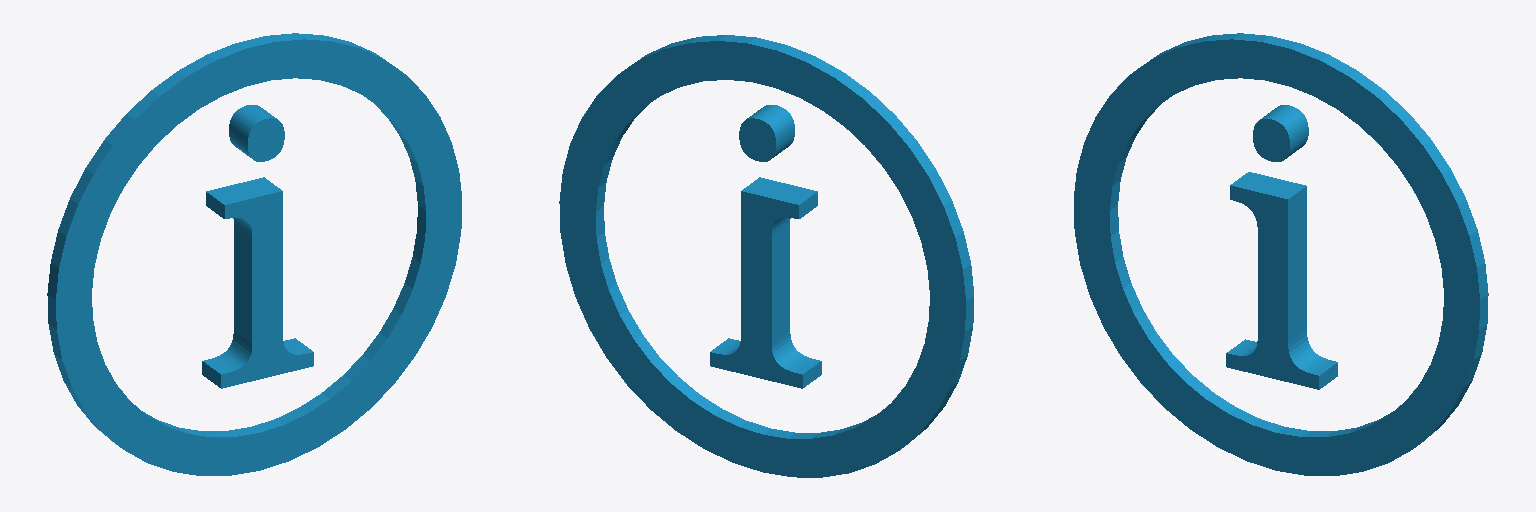
Rendered from Info.obj.
3 renders of one model, left to right at view 1: azimuth 30°, elevation 25°; view 2: azimuth 150°, elevation 25°; view 3: azimuth 330°, elevation 25°, orthographic.
Visible parts, largest first — view 1: group_0_[number redacted]; view 2: group_0_[number redacted]; view 3: group_0_[number redacted].
Part boxes in pixels (x1,y1,x2,y2): group_0_[number redacted]: (47, 33, 461, 475); group_0_[number redacted]: (559, 35, 973, 477); group_0_[number redacted]: (1074, 33, 1488, 475).
Bounding box in the file's own units: 0.992 × 0.9914 × 0.0793.